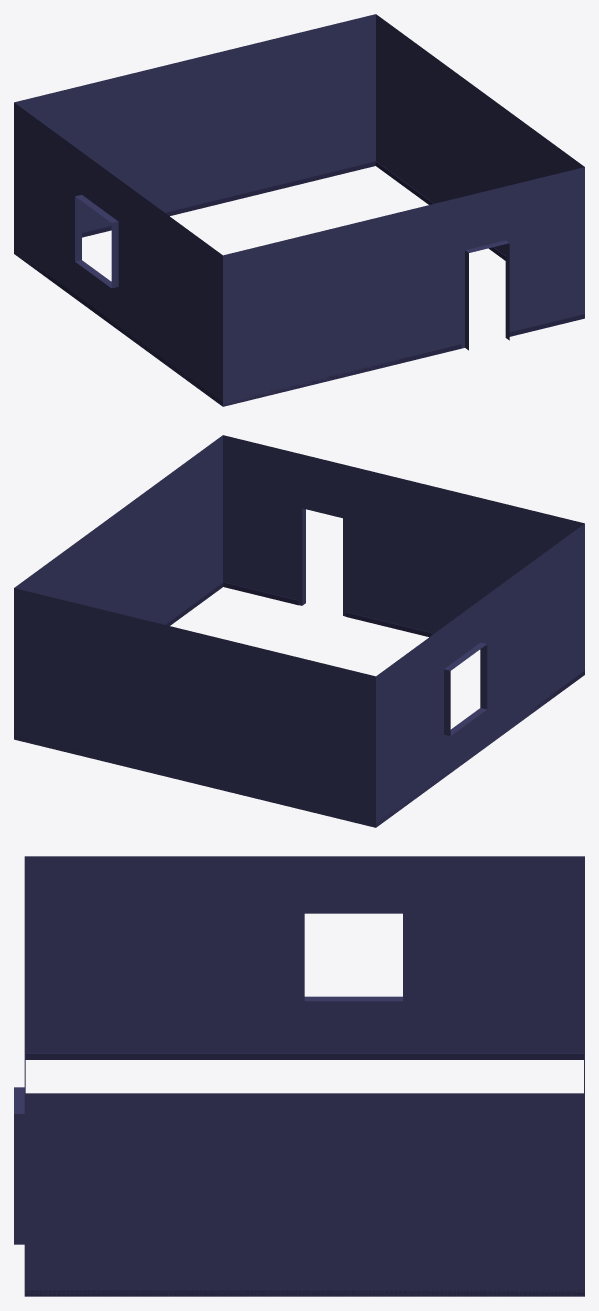
The model's file is room_walls.fbx.
The picture shows the model from 3 angles, top to bottom: view 1: azimuth 30°, elevation 25°; view 2: azimuth 150°, elevation 25°; view 3: azimuth 270°, elevation 25°; orthographic projection. The views are drawn at different scales.
Parts seen in each view (by area): view 1: room_walls; view 2: room_walls; view 3: room_walls.
Boxes of the visible parts, x1=… form: room_walls: x1=14, y1=14, x2=584, y2=406; room_walls: x1=14, y1=435, x2=584, y2=827; room_walls: x1=14, y1=856, x2=584, y2=1296.
Bounding box in the file's own units: 8.15 × 3.2 × 8.15.
